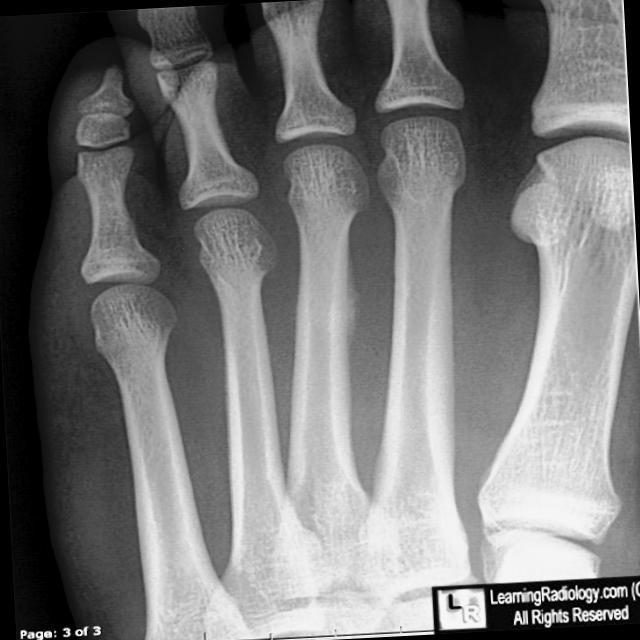HairLine Fracture: (329, 256, 363, 352)
